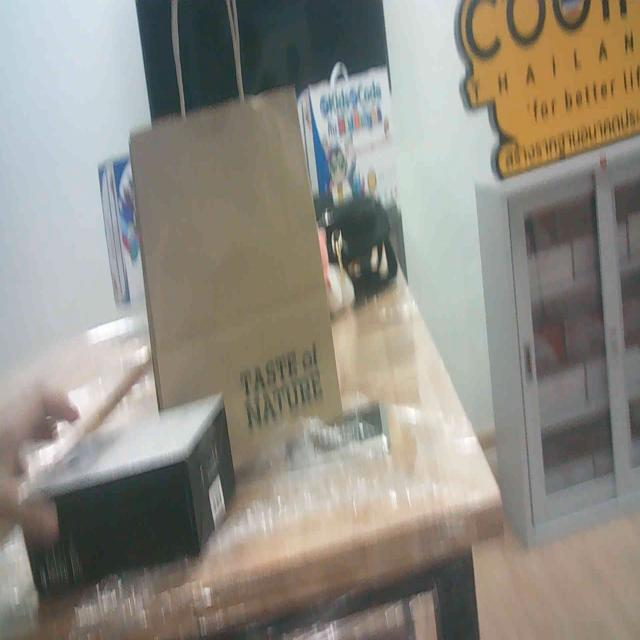bag: (152, 72, 356, 462)
